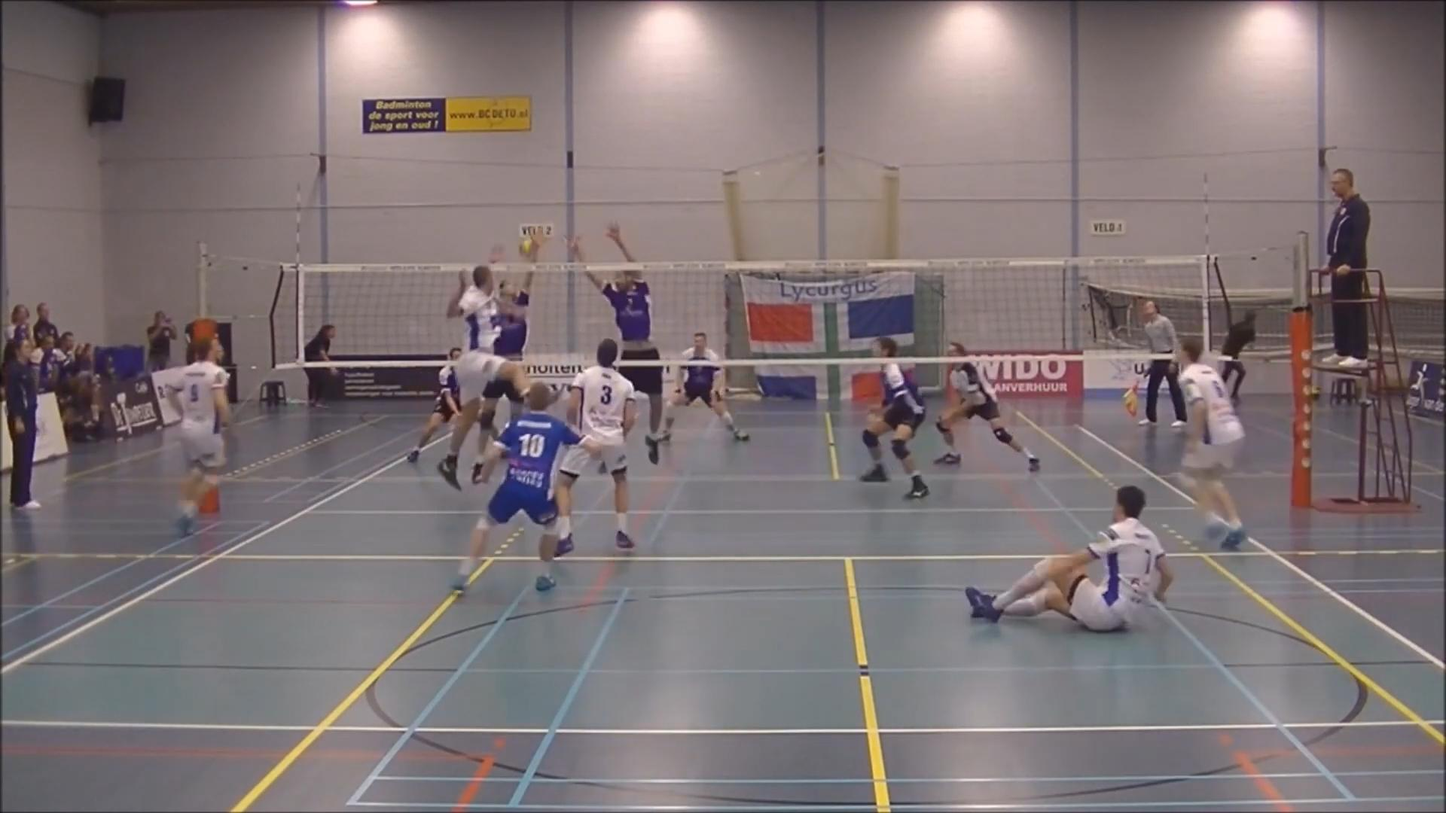Attack: (412, 243, 536, 493)
Block: (564, 220, 672, 461), (472, 231, 538, 490)
Player: (966, 486, 1173, 632), (453, 382, 595, 592), (557, 340, 636, 555), (1180, 337, 1246, 549), (935, 343, 1039, 471), (165, 338, 230, 537), (860, 336, 929, 498), (659, 332, 748, 441), (406, 348, 462, 463)
ball: (516, 228, 539, 262)
